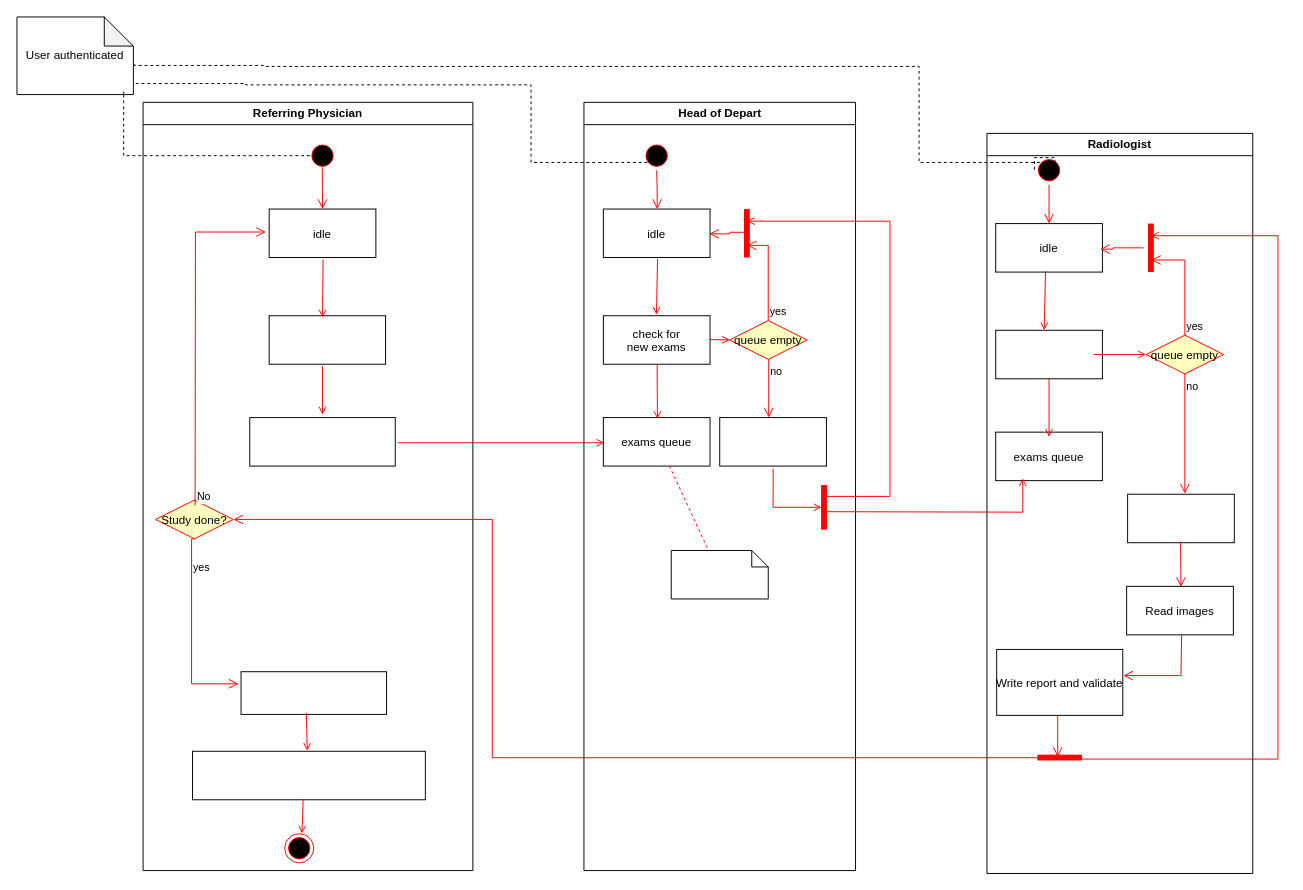
Some shapes in this 1303 by 890 pixel diagram are drawn without their labels. Here are the shapes that lost their labels. From the top down, the centre of each, then its label:
At (327,339): "Create an exam order".
At (1048,354): "check for new exam orders".
At (322,441): "Submit an exam order".
At (772,441): "dispatch orders to radiologists".
At (1180,518): "process command".
At (719,574): "critical section".
At (313,692): "Read radiologist repot".
At (308,775): "Update study report with own report".
